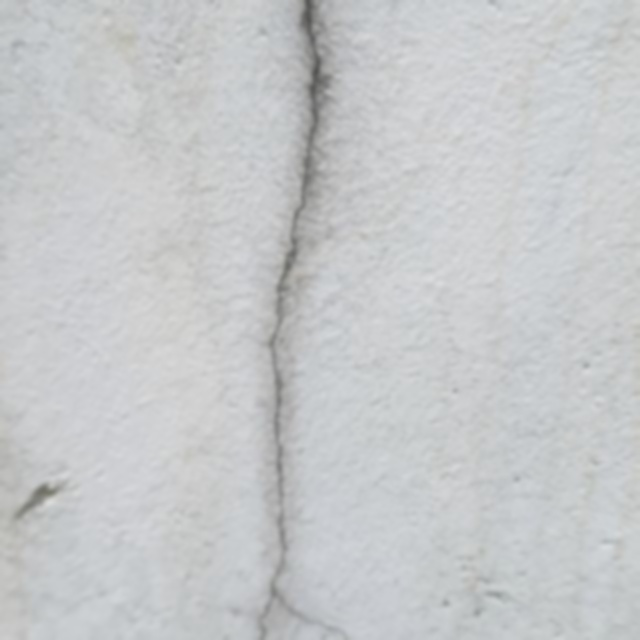SurfaceCrack: (224, 0, 375, 640)
